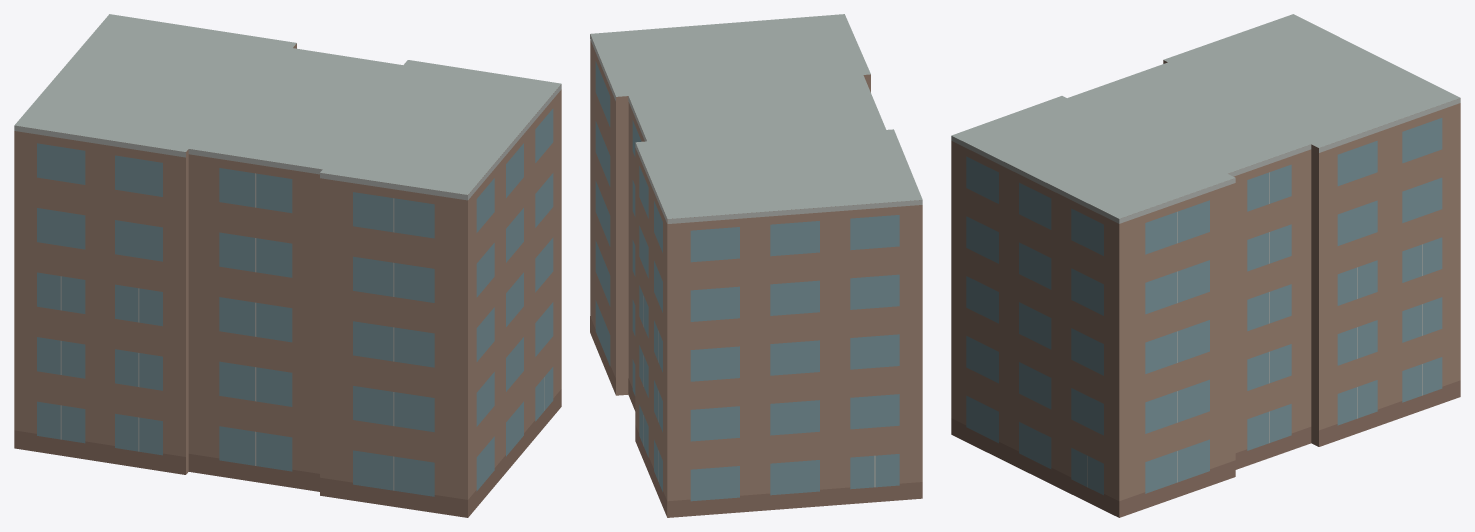
The model's file is survey-upis-32639256.glb.
3 renders of one model, left to right at view 1: azimuth 30°, elevation 25°; view 2: azimuth 150°, elevation 25°; view 3: azimuth 270°, elevation 25°, orthographic. The views are drawn at different scales.
Parts seen in each view (by area): view 1: survey-upis-32639256.tmp; view 2: survey-upis-32639256.tmp; view 3: survey-upis-32639256.tmp.
Part boxes in pixels (x1,y1,x2,y2): survey-upis-32639256.tmp: (14,14,561,517); survey-upis-32639256.tmp: (590,14,922,517); survey-upis-32639256.tmp: (951,14,1460,517).
Bounding box in the file's own units: 21.32 × 14.5 × 22.4.
